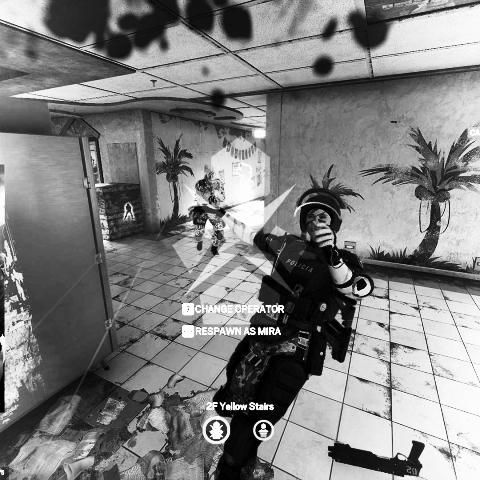Character: (212, 182, 376, 480), (192, 167, 228, 259)
Head: (294, 186, 346, 240), (205, 168, 217, 184)
